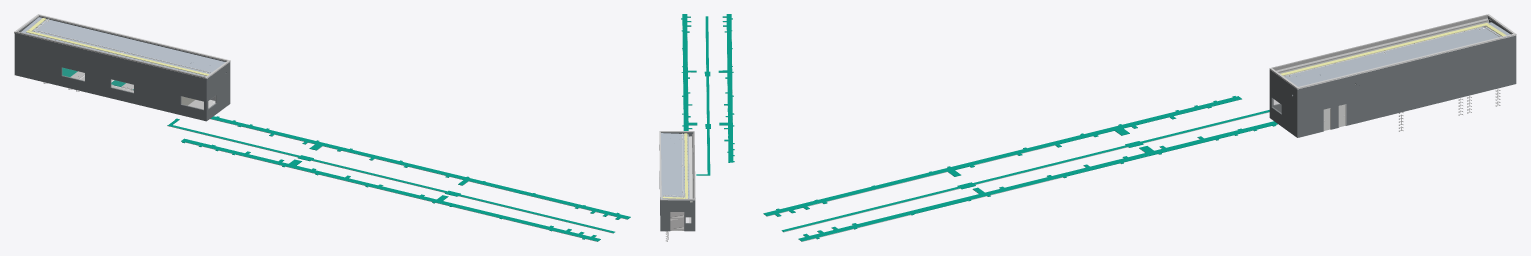
File: pt106-l1t1-1542-106-con-ed-arq-mo-0001-r01.glb
3 renders of one model, left to right at view 1: azimuth 30°, elevation 25°; view 2: azimuth 150°, elevation 25°; view 3: azimuth 270°, elevation 25°, orthographic. The views are drawn at different scales.
Parts seen in each view (by area): view 1: 0VBYVgGgPCyQqfhvXc0f7p, 3euVw2YUXBPeVMvWhaKwse, 2VAwaAM$15VuTPXouFk32Q, 2VAwaAM$15VuTPXouFk347, 2VAwaAM$15VuTPXouFk30k, 0VBYVgGgPCyQqfhvXc0f0b, 01_rSAovP2gRnOOjYv7Vql, 0E7MYF_Oj3NQO9mkehz2rJ, 0S$MeURlX7DRF$kN38tsCf, 33qi9pTYvEkf3LfGC4vh7J; view 2: 3euVw2YUXBPeVMvWhaKwse, 2VAwaAM$15VuTPXouFk32Q, 20Qil75rH36gxbNuTYAWAJ, 2VAwaAM$15VuTPXouFk347, 2VAwaAM$15VuTPXouFk30k, 0Z993spsn5GvHpsdxdYEbN, 18GbWpOY9Du9ZWZYm6Pjro, 01_rSAovP2gRnOOjYv7Vql, 0S$MeURlX7DRF$kN38tsCf, 0E7MYF_Oj3NQO9mkehz2rJ, 0E7MYF_Oj3NQO9mkehz2rL, 0VBYVgGgPCyQqfhvXc0f0b (+2 smaller); view 3: 33qi9pTYvEkf3LfGC4vh7J, 3euVw2YUXBPeVMvWhaKwse, 2VAwaAM$15VuTPXouFk32Q, 2VAwaAM$15VuTPXouFk347, 0S$MeURlX7DRF$kN38tsCf, 2VAwaAM$15VuTPXouFk30k, 0VBYVgGgPCyQqfhvXc0f0b, 01_rSAovP2gRnOOjYv7Vql, 0E7MYF_Oj3NQO9mkehz2rJ.
Boxes of the visible parts, x1,y1,x2,y2 form: 0VBYVgGgPCyQqfhvXc0f7p: [16, 33, 207, 121]; 3euVw2YUXBPeVMvWhaKwse: [21, 17, 225, 76]; 2VAwaAM$15VuTPXouFk32Q: [181, 138, 600, 241]; 2VAwaAM$15VuTPXouFk347: [210, 116, 630, 219]; 2VAwaAM$15VuTPXouFk30k: [167, 118, 614, 233]; 0VBYVgGgPCyQqfhvXc0f0b: [207, 62, 229, 120]; 01_rSAovP2gRnOOjYv7Vql: [26, 30, 208, 75]; 0E7MYF_Oj3NQO9mkehz2rJ: [38, 14, 229, 61]; 0S$MeURlX7DRF$kN38tsCf: [16, 31, 205, 78]; 33qi9pTYvEkf3LfGC4vh7J: [39, 16, 230, 103]; 3euVw2YUXBPeVMvWhaKwse: [661, 133, 689, 198]; 2VAwaAM$15VuTPXouFk32Q: [718, 14, 734, 162]; 20Qil75rH36gxbNuTYAWAJ: [660, 200, 695, 231]; 2VAwaAM$15VuTPXouFk347: [681, 14, 697, 130]; 2VAwaAM$15VuTPXouFk30k: [696, 16, 710, 175]; 0Z993spsn5GvHpsdxdYEbN: [670, 212, 684, 230]; 18GbWpOY9Du9ZWZYm6Pjro: [689, 136, 692, 198]; 01_rSAovP2gRnOOjYv7Vql: [684, 133, 687, 198]; 0S$MeURlX7DRF$kN38tsCf: [692, 131, 695, 198]; 0E7MYF_Oj3NQO9mkehz2rJ: [659, 131, 661, 199]; 0E7MYF_Oj3NQO9mkehz2rL: [660, 198, 695, 200]; 0VBYVgGgPCyQqfhvXc0f0b: [661, 132, 693, 136]; 33qi9pTYvEkf3LfGC4vh7J: [1296, 36, 1514, 137]; 3euVw2YUXBPeVMvWhaKwse: [1283, 22, 1510, 86]; 2VAwaAM$15VuTPXouFk32Q: [763, 96, 1241, 216]; 2VAwaAM$15VuTPXouFk347: [798, 121, 1277, 241]; 0S$MeURlX7DRF$kN38tsCf: [1272, 14, 1488, 72]; 2VAwaAM$15VuTPXouFk30k: [781, 110, 1269, 231]; 0VBYVgGgPCyQqfhvXc0f0b: [1270, 70, 1296, 136]; 01_rSAovP2gRnOOjYv7Vql: [1280, 23, 1488, 75]; 0E7MYF_Oj3NQO9mkehz2rJ: [1297, 34, 1516, 89].
Bounding box in the file's own units: 38.17 × 7.27 × 68.43.
